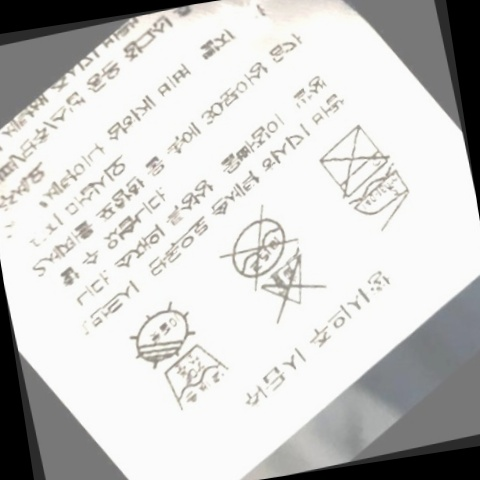DN_dry_clean: (211, 205, 297, 286)
DN_wash: (305, 122, 393, 195)
hand_wash: (152, 342, 238, 419)
iron_medium: (343, 168, 422, 234)
line_dry_in_shade: (114, 293, 204, 376)
non_chlorine_bleach: (245, 254, 325, 325)
